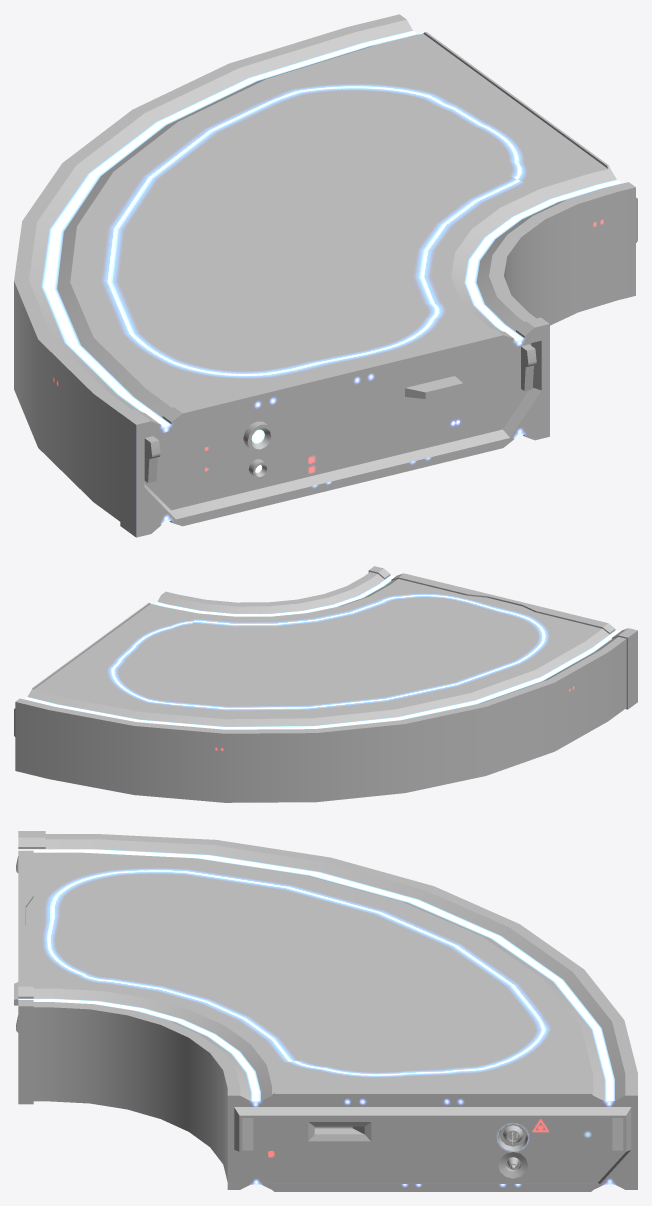
Rendered from TurnRight-2S_Caps.fbx.
3 views of the same model, one above another, from view 1: azimuth 30°, elevation 25°; view 2: azimuth 150°, elevation 25°; view 3: azimuth 270°, elevation 25° (orthographic). The views are drawn at different scales.
Parts seen in each view (by area): view 1: TurnRight-2S_Caps; view 2: TurnRight-2S_Caps; view 3: TurnRight-2S_Caps.
Part boxes in pixels (x1,y1,x2,y2): TurnRight-2S_Caps: [14, 14, 637, 537]; TurnRight-2S_Caps: [14, 566, 637, 802]; TurnRight-2S_Caps: [14, 831, 637, 1191].
Bounding box in the file's own units: 3.91 × 0.6517 × 3.76.
